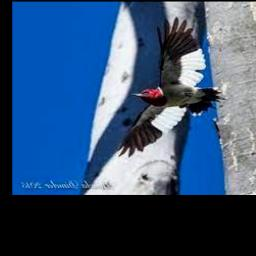Woodpecker: (117, 17, 228, 158)
